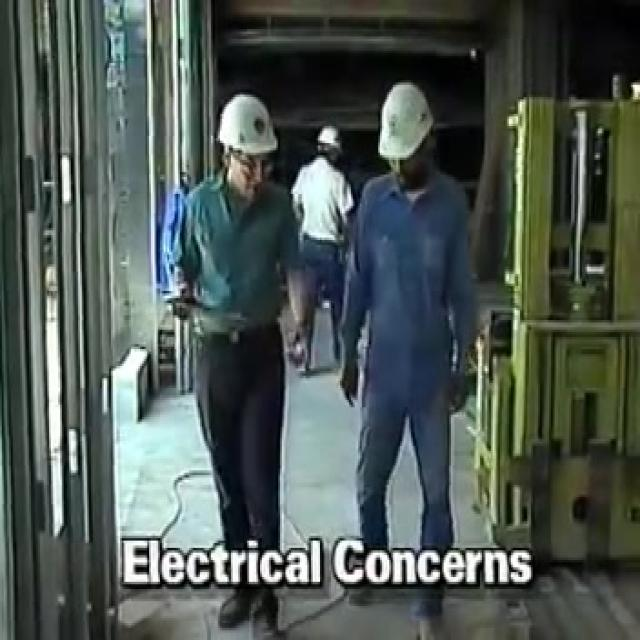Safety-Helmet: (367, 73, 449, 172), (209, 85, 286, 170), (307, 114, 351, 165)
